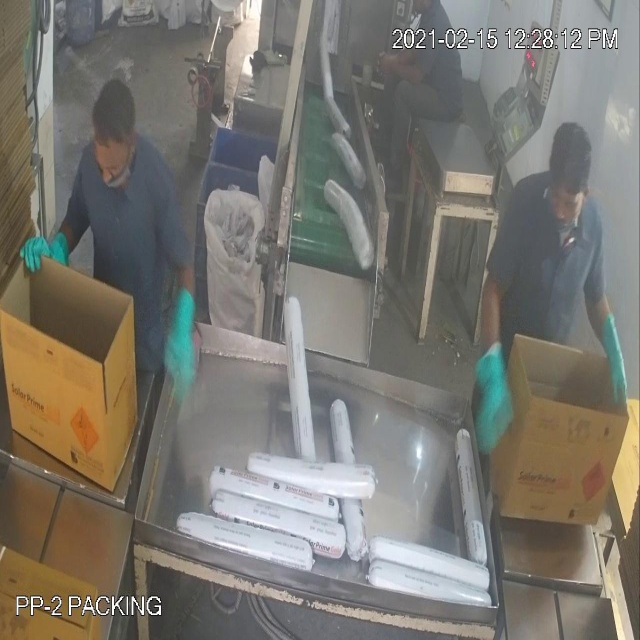Guantes: (467, 319, 532, 453), (156, 268, 208, 404), (17, 228, 83, 299), (596, 292, 630, 429)
Sin_guantes: (376, 43, 434, 92)
